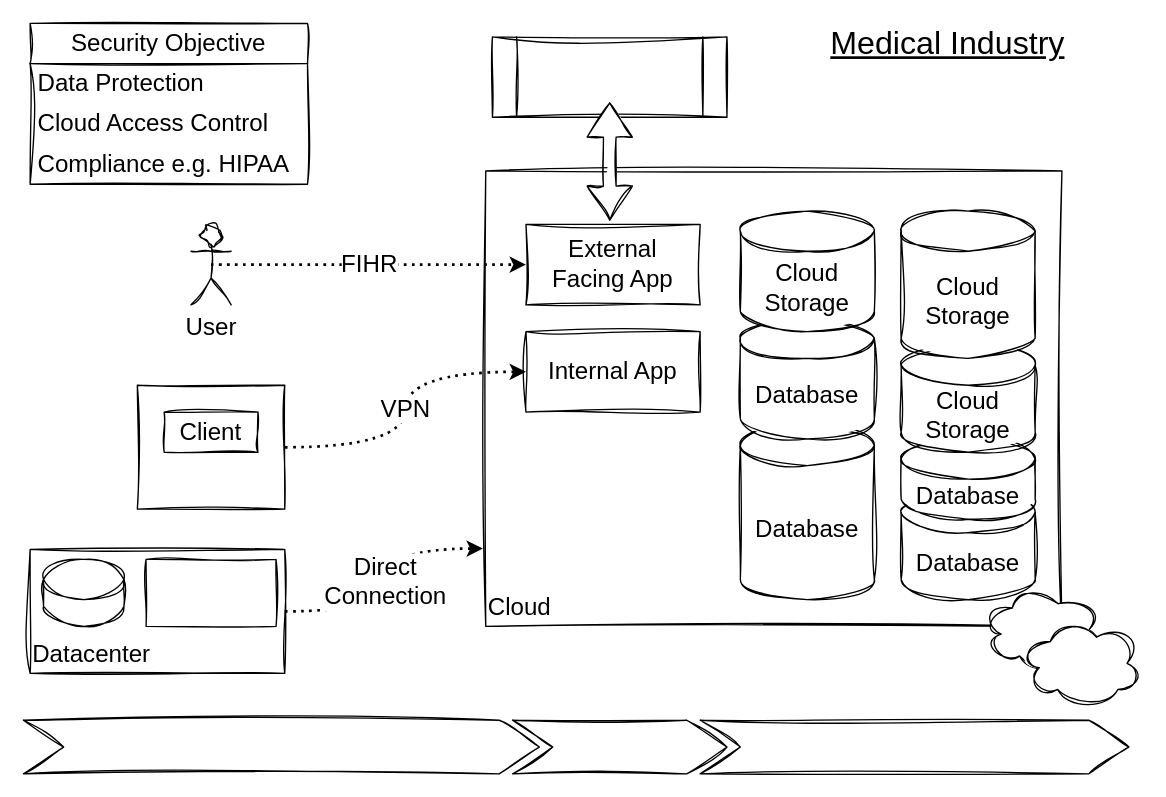
The diagram is 1166 pixels wide and 797 high, and some of its shapes have lost their labels. The shapes that lost their labels are listed below. From the top down, each one's box as (x1, y1, x2, y2) in pixels, then its label:
(491, 36, 727, 117): 3rd Party Data Exchange
(136, 384, 285, 509): Edge (Clinic)
(42, 558, 124, 626): DB
(145, 558, 276, 626): Internal System
(22, 719, 539, 774): Sensitive Data Access
(511, 719, 727, 774): Compute
(699, 719, 1129, 774): Sensitive Data
